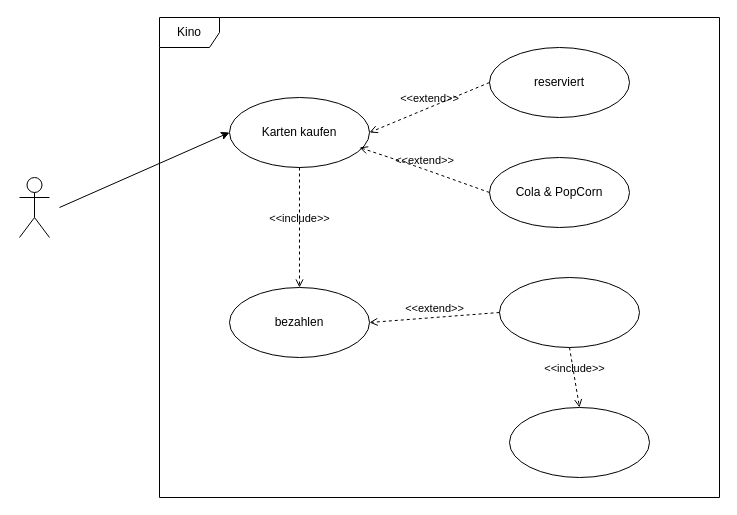
The diagram is 737 pixels wide and 515 high, and some of its shapes have lost their labels. Each missing label, with the centre of its shape:
Kartenprüfung: point (579, 442)
Kunde: point (34, 207)
Zahlung mit Karte: point (569, 312)
